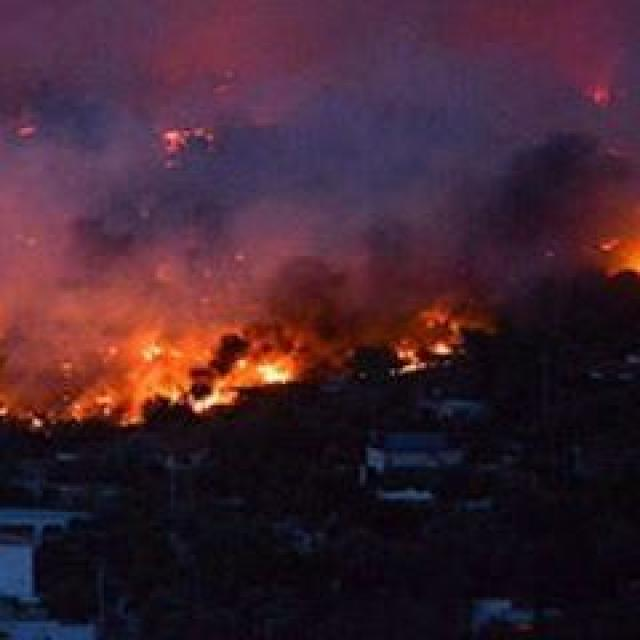Smoke: (0, 0, 635, 324)
